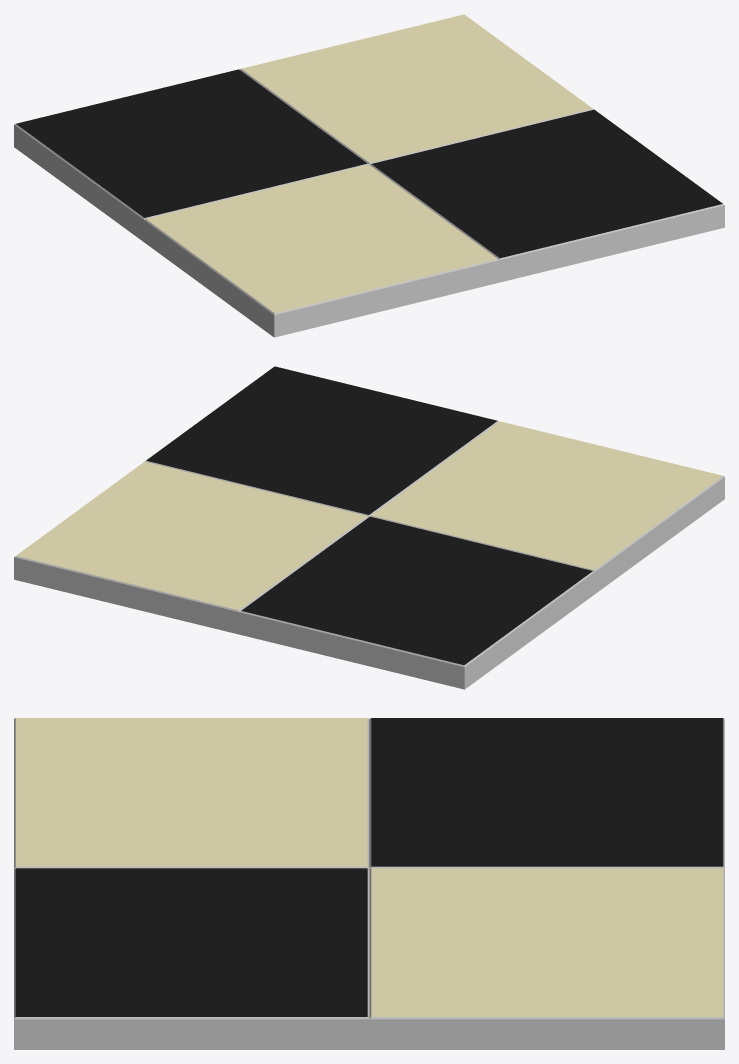
Rendered from Floor_square_exportprep.gltf.
The picture shows the model from 3 angles, top to bottom: view 1: azimuth 30°, elevation 25°; view 2: azimuth 150°, elevation 25°; view 3: azimuth 270°, elevation 25°; orthographic projection. The views are drawn at different scales.
Visible parts, largest first — view 1: FloorTile; view 2: FloorTile; view 3: FloorTile.
Boxes of the visible parts, x1,y1,x2,y2 form: FloorTile: [14, 14, 724, 337]; FloorTile: [14, 366, 724, 689]; FloorTile: [14, 718, 724, 1049].
Bounding box in the file's own units: 2 × 0.1 × 2.
